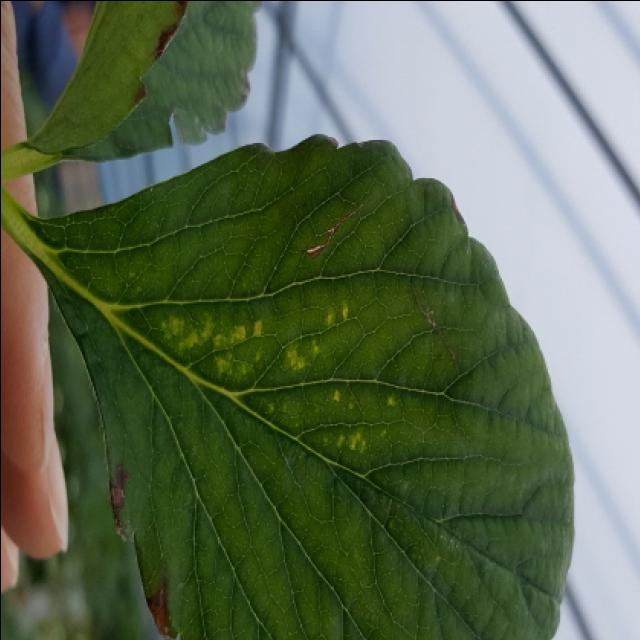Angular Leafspot: (140, 294, 405, 466)
